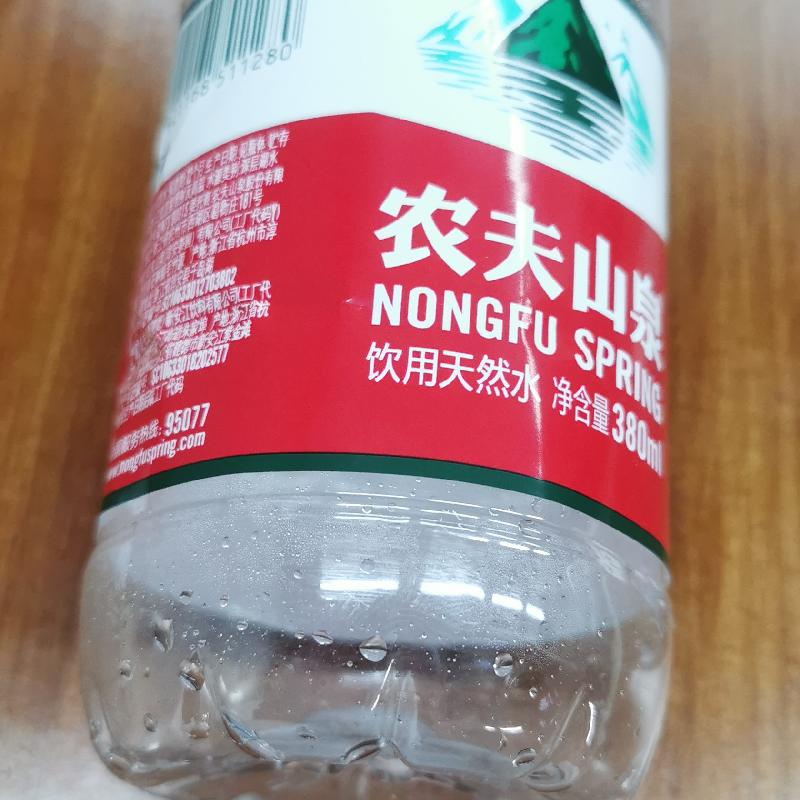bottles: (65, 0, 679, 796)
